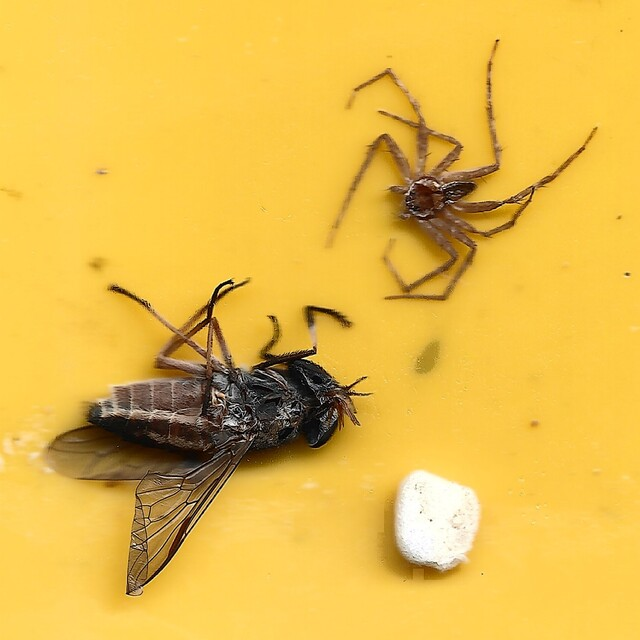Araneae: (322, 42, 599, 306)
Brachycera: (41, 278, 363, 598)
